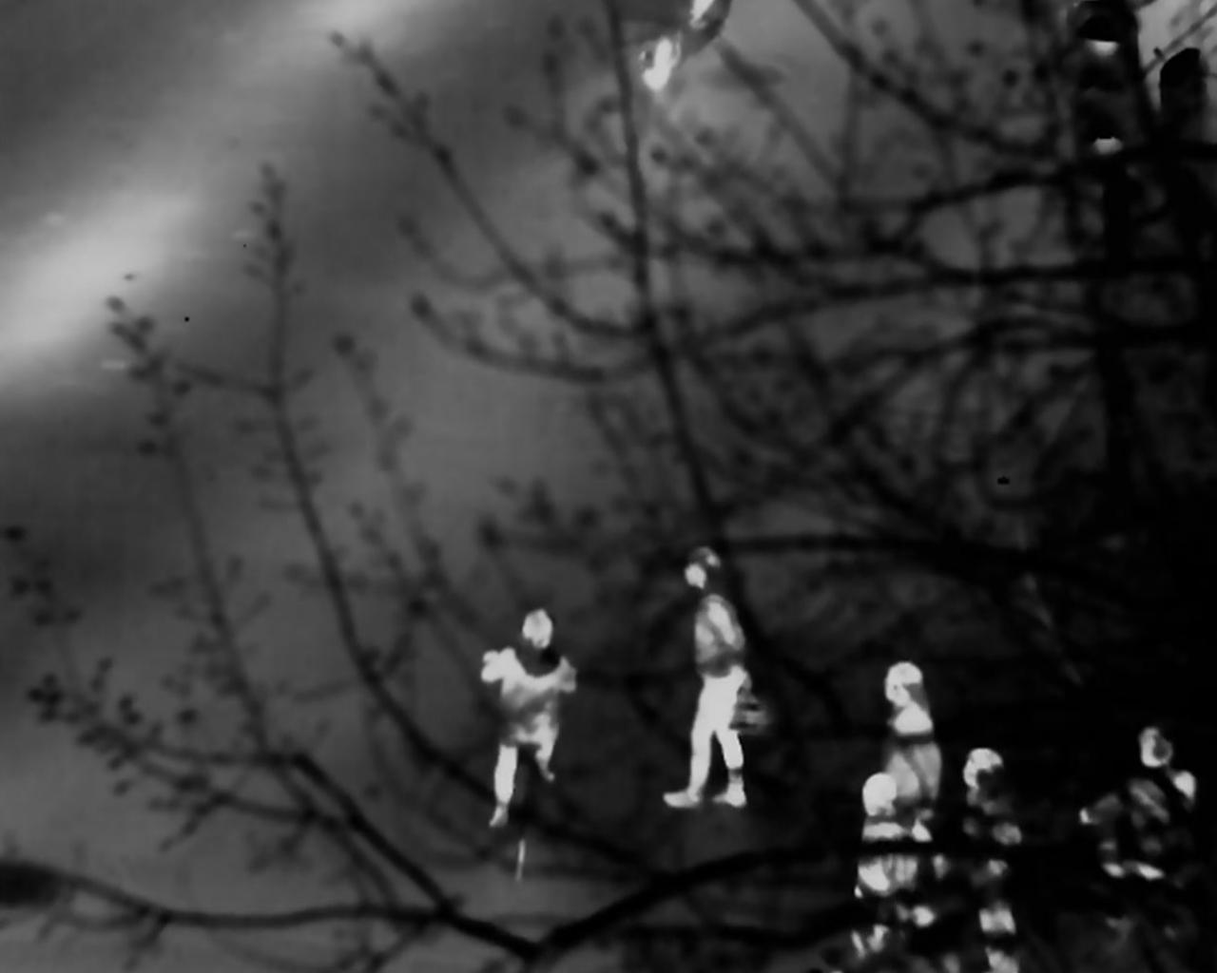person: (669, 544, 754, 827), (860, 664, 948, 913), (476, 616, 579, 824), (840, 770, 930, 973), (1119, 712, 1201, 889), (957, 741, 1006, 945)
